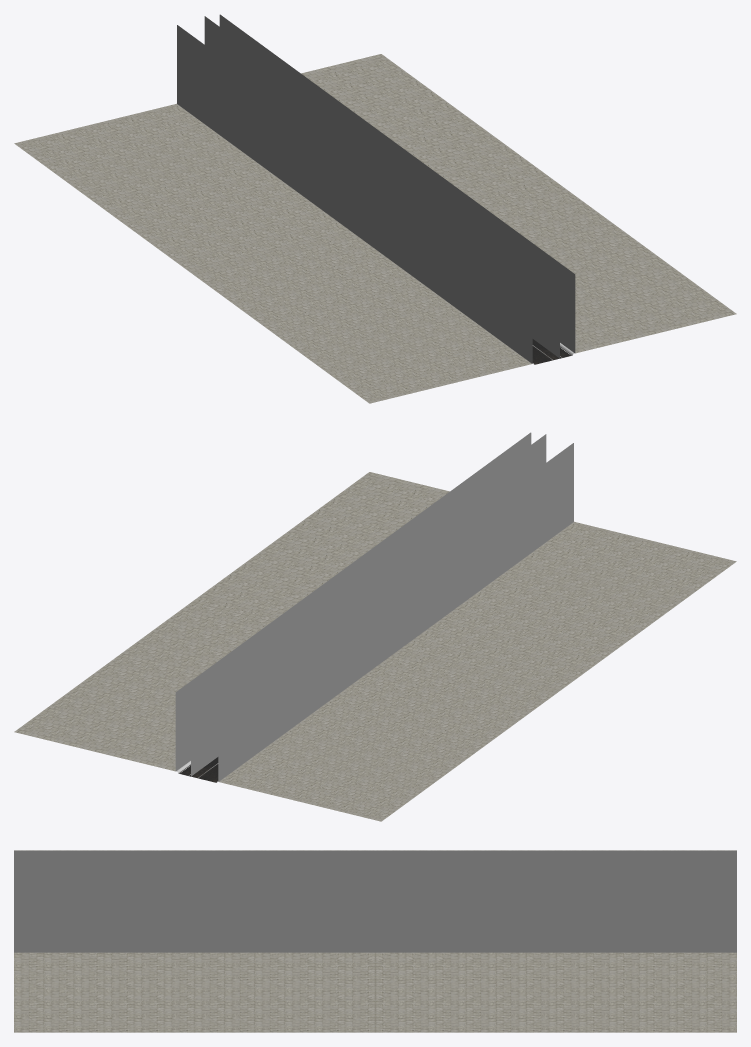
Rendered from CityTrack_A1205.fbx.
3 views of the same model, one above another, from view 1: azimuth 30°, elevation 25°; view 2: azimuth 150°, elevation 25°; view 3: azimuth 270°, elevation 25° (orthographic).
Parts seen in each view (by area): view 1: CitySidewalk_A, CityA_Wall_L, CityAI_A, CityA_Wall_R; view 2: CitySidewalk_A, CityA_Wall_L, CityAI_A, CityA_Wall_R; view 3: CitySidewalk_A, CityA_Wall_R, CityA_Wall_L, CityAI_A.
Boxes of the visible parts, left/top/right/bottom form: CitySidewalk_A: left=14, top=54, right=736, bottom=403; CityA_Wall_L: left=177, top=25, right=532, bottom=363; CityAI_A: left=204, top=16, right=559, bottom=358; CityA_Wall_R: left=219, top=14, right=575, bottom=352; CitySidewalk_A: left=14, top=472, right=736, bottom=821; CityA_Wall_L: left=218, top=443, right=573, bottom=781; CityAI_A: left=191, top=434, right=546, bottom=776; CityA_Wall_R: left=175, top=432, right=531, bottom=770; CitySidewalk_A: left=14, top=850, right=736, bottom=1032; CityA_Wall_R: left=14, top=872, right=736, bottom=952; CityA_Wall_L: left=14, top=850, right=736, bottom=862; CityAI_A: left=14, top=862, right=736, bottom=871.
Size of the model in its own units: 169 by 36.48 by 284.
